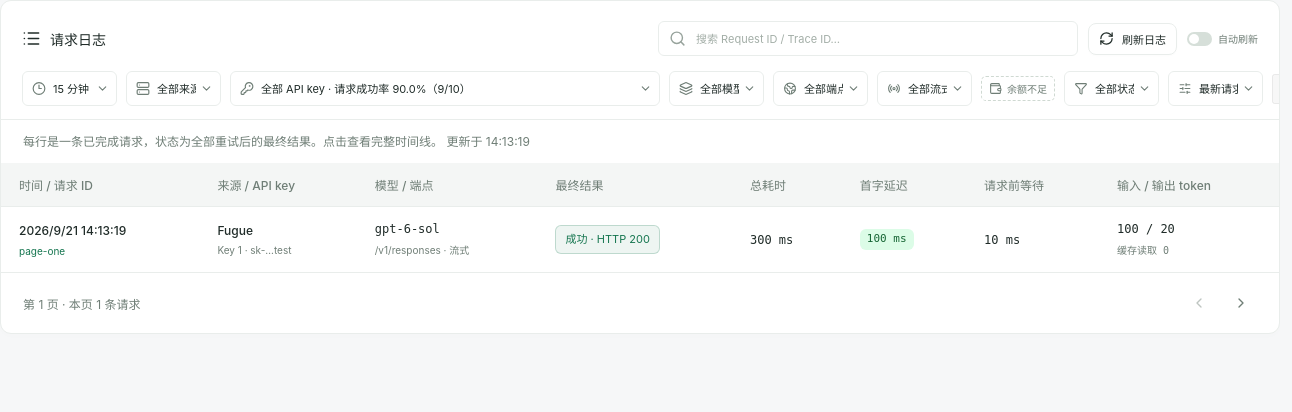
Test: keeps a later page during refresh and only resets pagination after success
Check: the button "page-one" is shown, box [19,245,65,257]
Click the button named "下一页": [1241, 303] box [1225,287,1257,319]
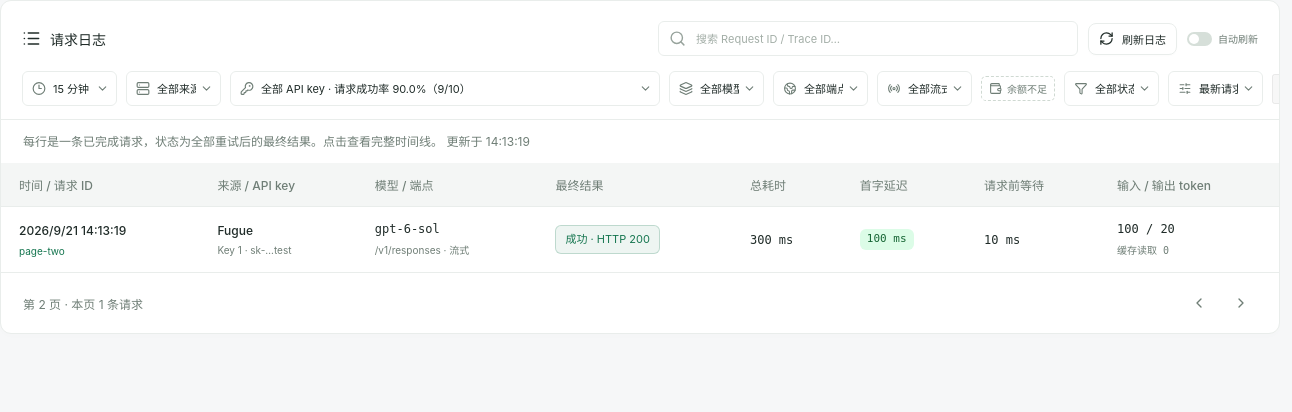
Check: the button "page-two" is shown, box [19,245,65,257]
Click the button "刷新日志": [1132, 38] box [1088,22,1177,54]
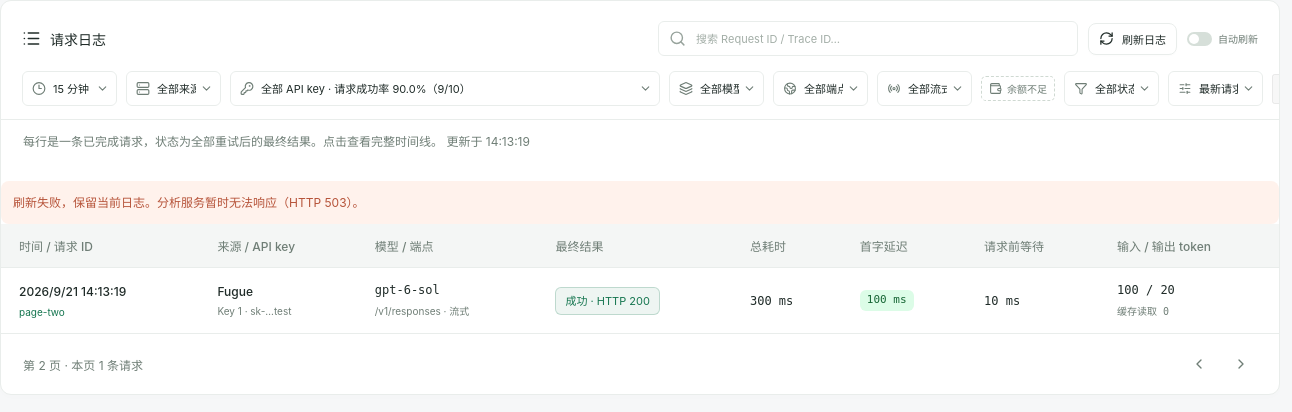
Check: the button "page-two" is shown, box [19,306,65,318]
Check: the text "第 2 页 · 本页 1 条请求" is shown, box [23,356,143,373]
Check: the message "刷新失败，保留当前日志。分析服务暂时无法响应（HTTP 503）。" is shown, box [1,181,1279,224]
Click the button "刷新日志": [1132, 38] box [1088,22,1177,54]
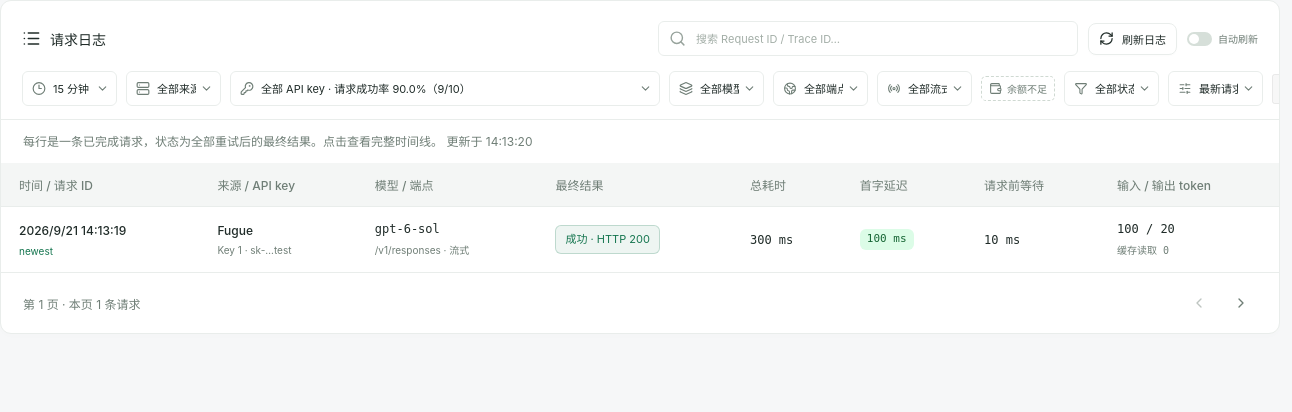
Check: the button named "上一页" is disabled, box [1183,287,1215,319]
Check: the button "newest" is shown, box [19,245,53,257]
Check: the text "第 1 页 · 本页 1 条请求" is shown, box [23,295,140,312]
